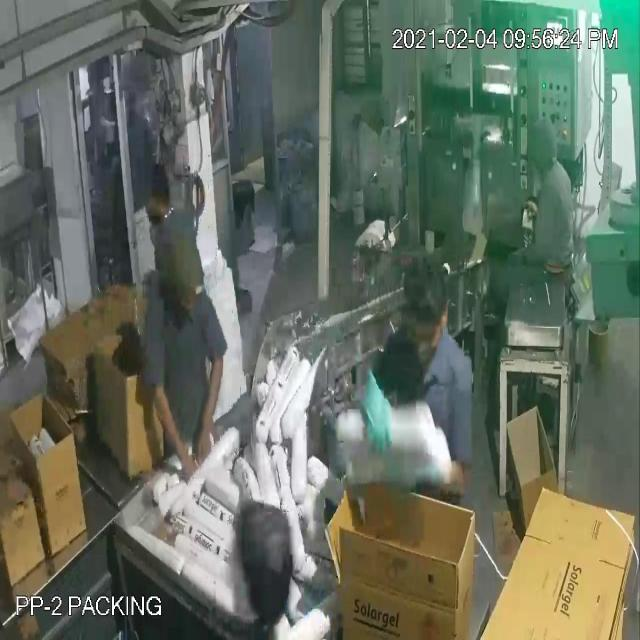gloves: (358, 361, 402, 475)
no-gloves: (135, 355, 199, 489), (177, 316, 231, 472)
